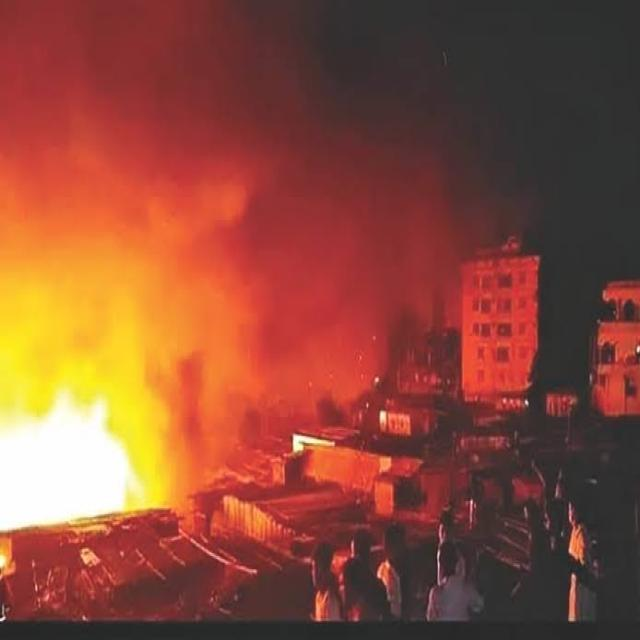Fire: (0, 296, 157, 544)
Smoke: (294, 102, 478, 396), (3, 0, 156, 292), (157, 0, 294, 292), (158, 297, 294, 492)
